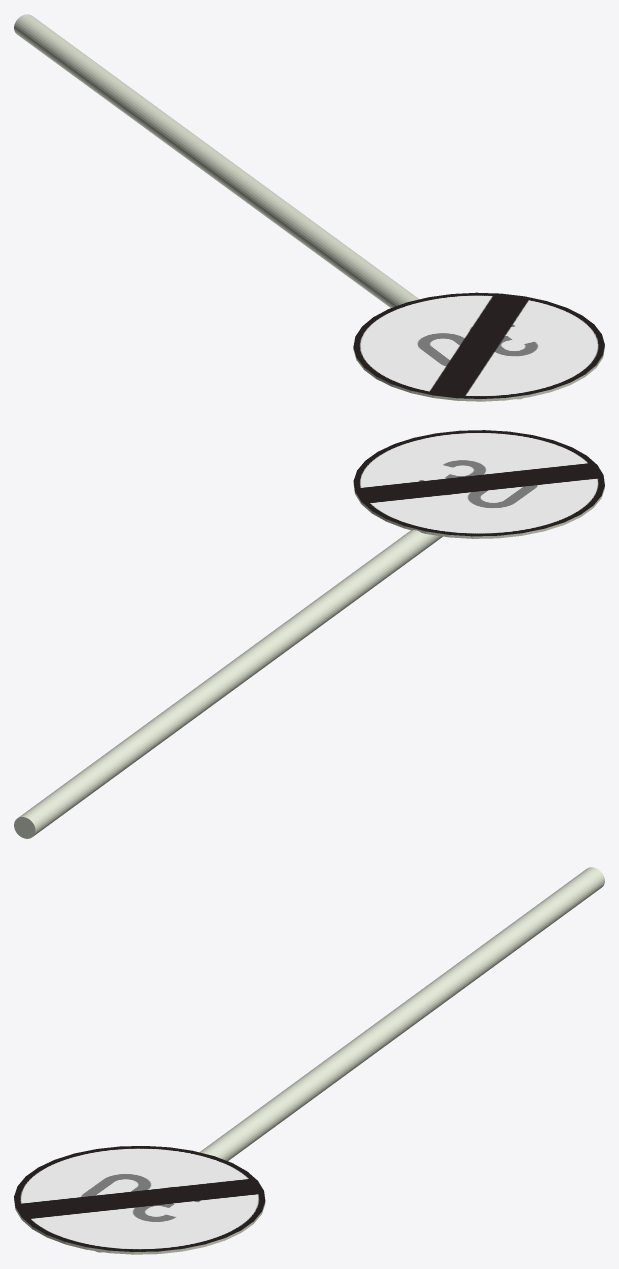
Rendered from no_limitglb.glb.
The picture shows the model from 3 angles, top to bottom: view 1: azimuth 30°, elevation 25°; view 2: azimuth 150°, elevation 25°; view 3: azimuth 330°, elevation 25°; orthographic projection.
Parts seen in each view (by area): view 1: Circle.003, no_limit_tube; view 2: Circle.003, no_limit_tube; view 3: Circle.003, no_limit_tube.
Part boxes in pixels (<box>): Circle.003: <box>353,292,604,401</box>; no_limit_tube: <box>14,14,523,399</box>; Circle.003: <box>353,430,604,538</box>; no_limit_tube: <box>14,530,442,838</box>; Circle.003: <box>14,1146,265,1254</box>; no_limit_tube: <box>95,867,604,1252</box>.
Bounding box in the file's own units: 0.4383 × 0.0437 × 1.81.
3 materials, 1 textured.
